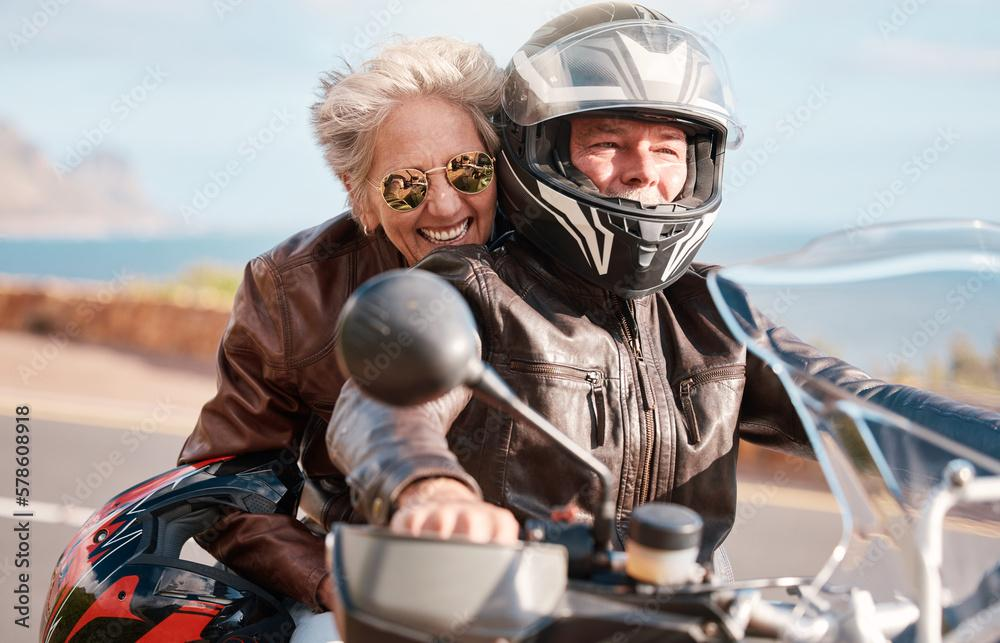helmet: (490, 0, 749, 302)
nohelmet: (308, 32, 509, 291)
